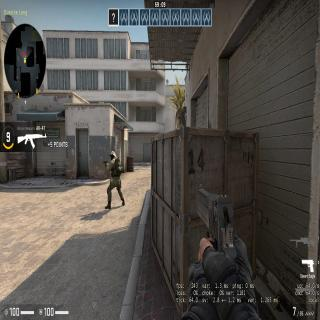CT-Body: (104, 148, 125, 205)
CT-Head: (110, 150, 116, 160)
